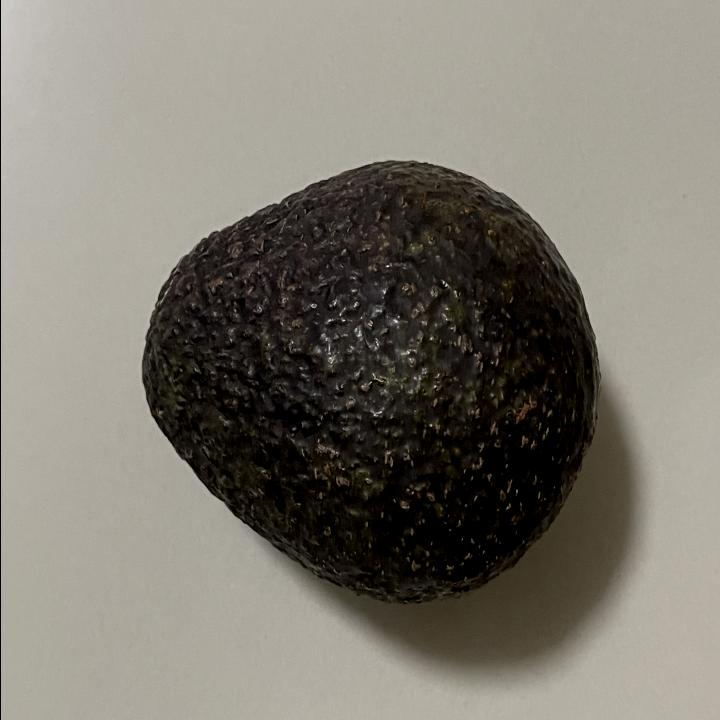Level2: (130, 149, 604, 615)
